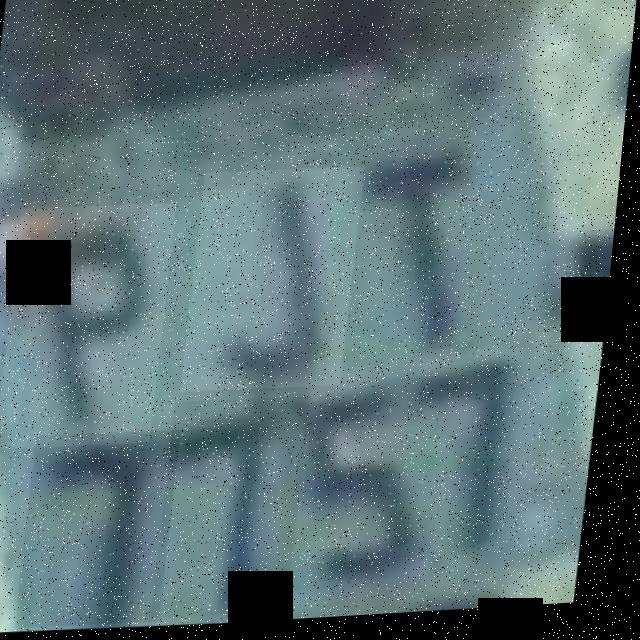5: (284, 378, 452, 600)
7: (390, 345, 571, 569), (163, 398, 319, 623), (26, 429, 189, 631)
J: (188, 168, 368, 398)
P: (4, 202, 181, 452)
T: (333, 116, 523, 375)
